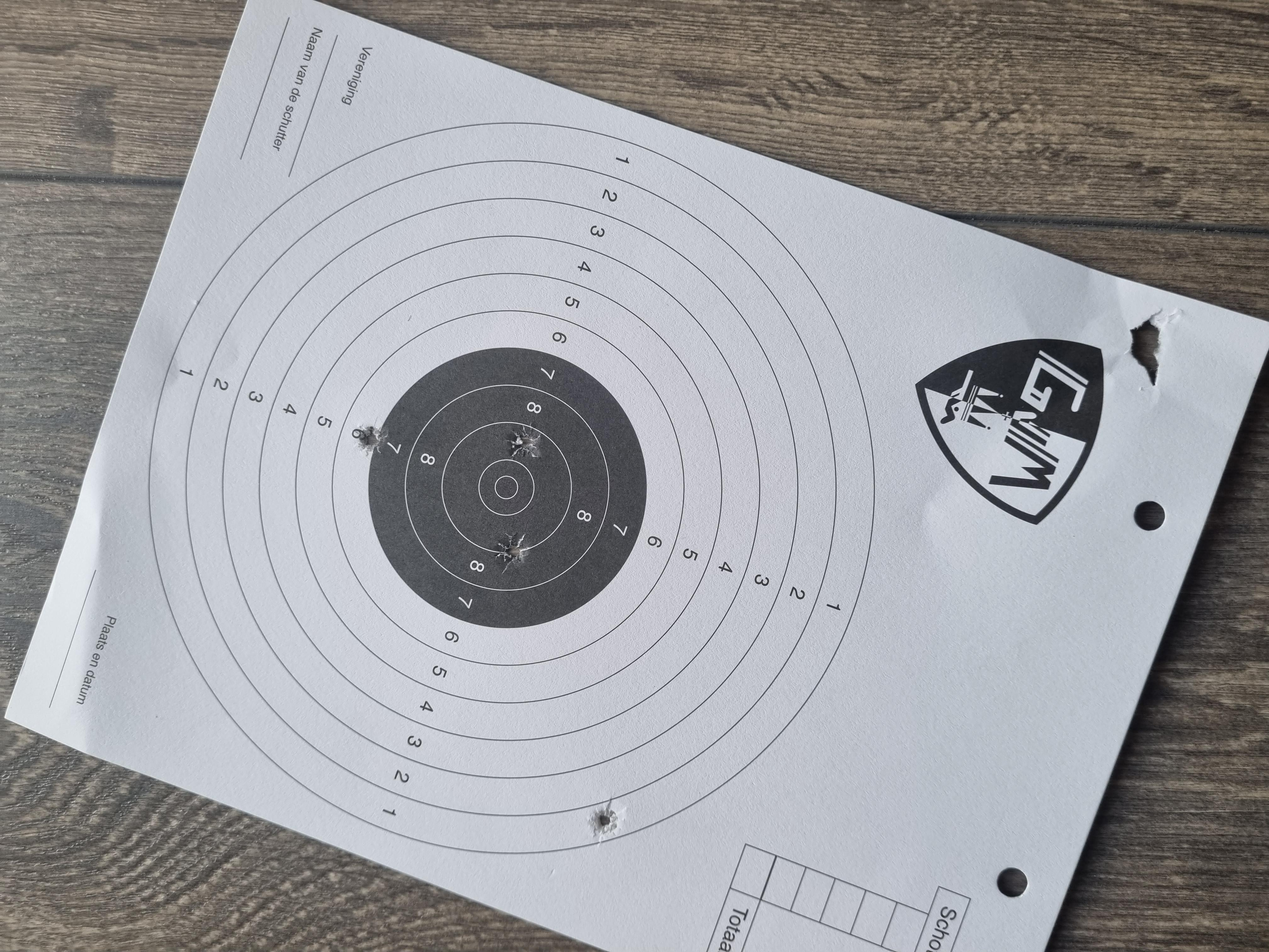hole: (146, 436, 203, 469), (504, 371, 559, 401), (655, 378, 706, 409), (658, 262, 710, 290)
